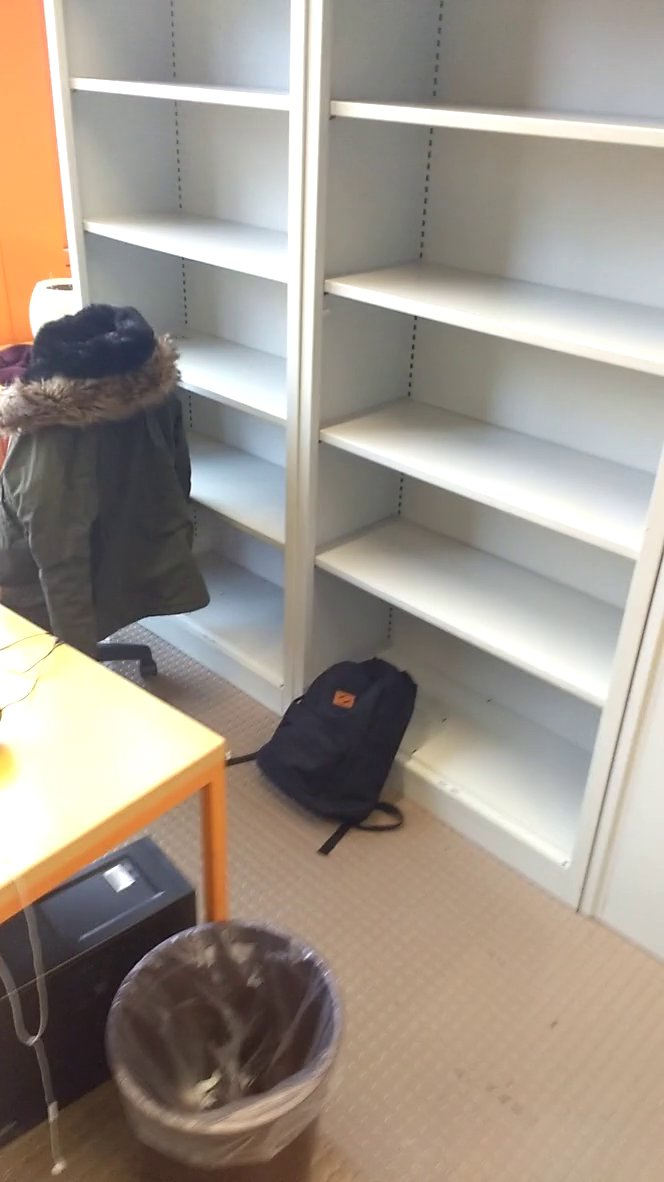bag: (240, 642, 424, 840)
bin: (94, 906, 362, 1182)
